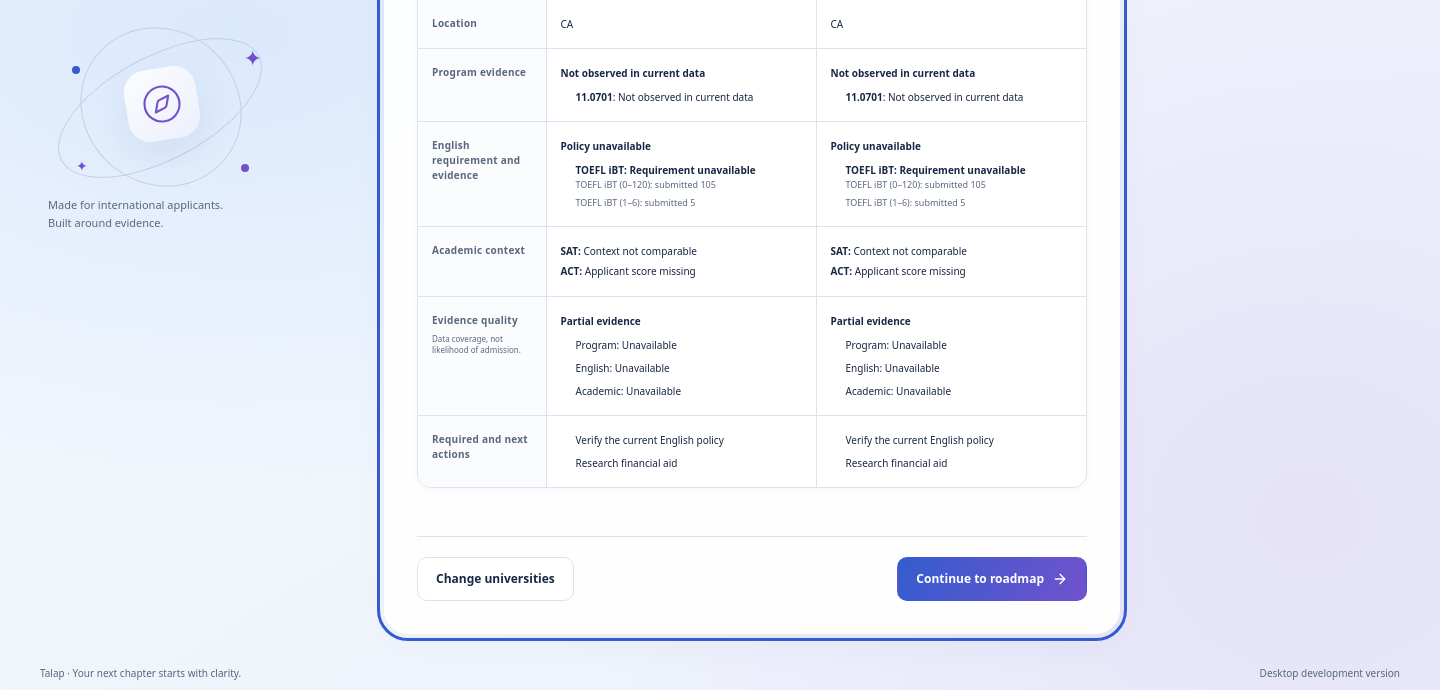
Scenario: university comparison › offers change-selection and roadmap navigation only with a valid comparison
(page scrolled)
Click the link "Continue to roadmap". click: (992, 579)
box: x1=897 y1=557 x2=1087 y2=601
(page scrolled)
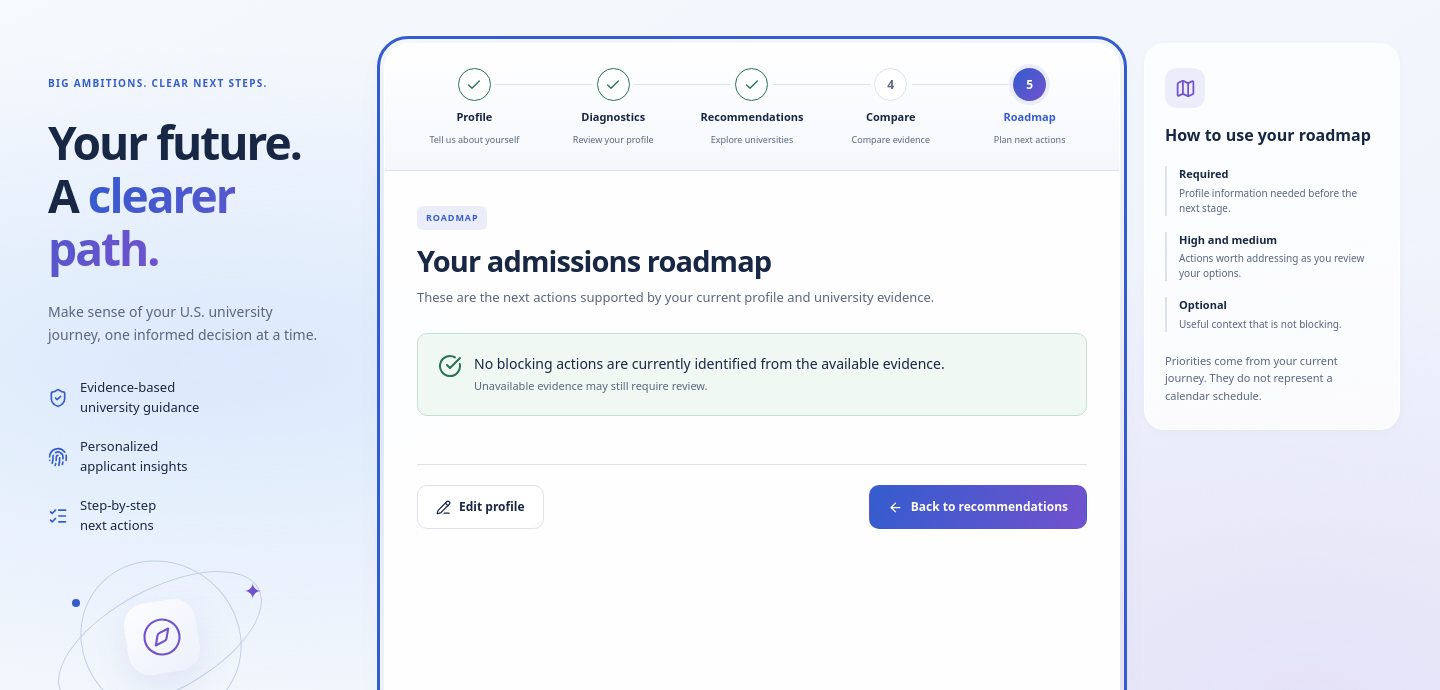
Expected: the heading "Your admissions roadmap" is shown, x1=417 y1=241 x2=771 y2=280
